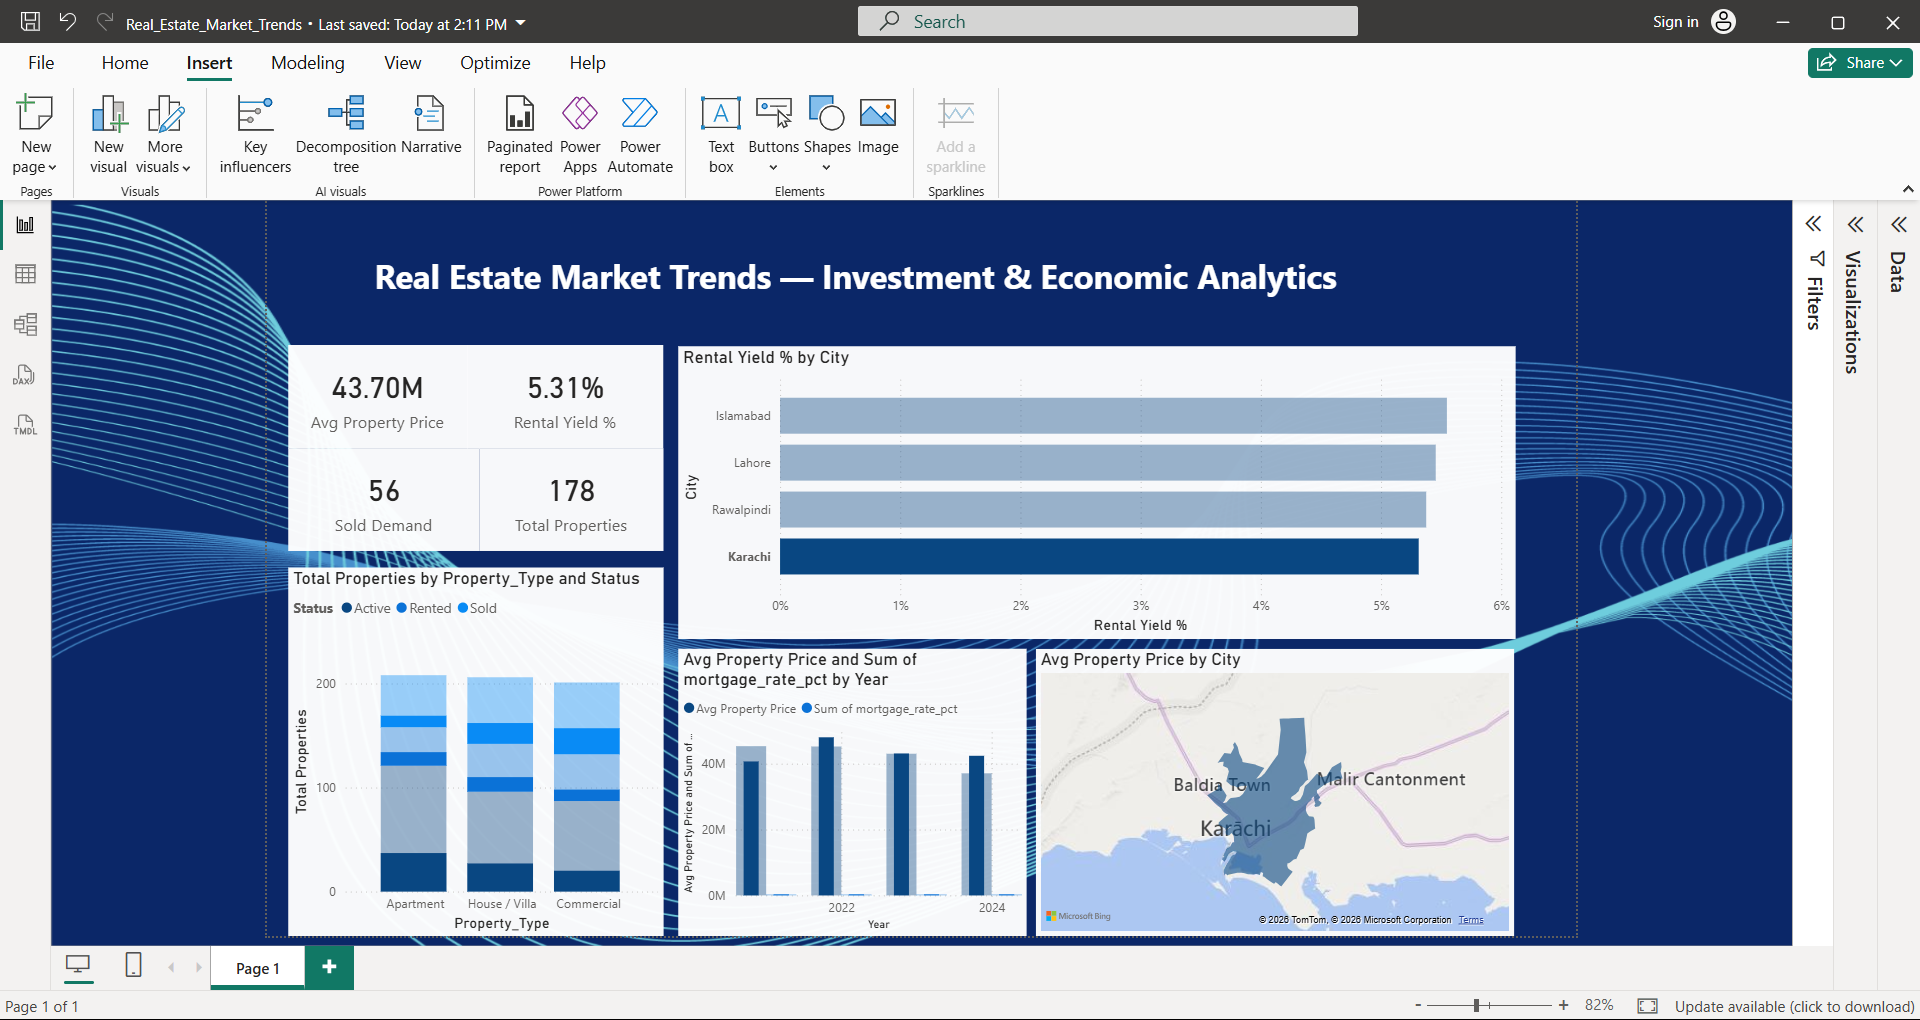

Layout of this report page (visuals, bound fields, positions):
{"tool":"powerbi","page":{"name":"Page 1","canvas":[1280,720],"ordinal":0},"visuals":[{"type":"card","fields":{"Values":["Measure.Sold Demand"]},"box":[20.8,243.3,187.1,100.3],"z":0},{"type":"card","fields":{"Values":["Measure.Avg Property Price"]},"box":[20.8,141.8,174.9,101.5],"z":1000},{"type":"card","fields":{"Values":["Measure.Rental Yield %"]},"box":[195.7,141.8,192,101.5],"z":2000},{"type":"card","fields":{"Values":["Measure.Total Properties"]},"box":[207.9,243.3,179.8,100.3],"z":3000},{"type":"clusteredBarChart","fields":{"Y":["Measure.Rental Yield %"],"Category":["fact_real_estate.City"]},"box":[402.3,143.1,819.3,286.1],"z":4000},{"type":"columnChart","fields":{"Category":["fact_real_estate.Property_Type"],"Y":["Measure.Total Properties"],"Series":["fact_real_estate.Status"]},"box":[20.8,359.5,366.8,360.7],"z":5000},{"type":"filledMap","fields":{"Category":["fact_real_estate.City"]},"box":[752,439,468.3,281.3],"z":6000},{"type":"lineClusteredColumnComboChart","fields":{"Category":["fact_real_estate.Date.Variation.Date Hierarchy.Year","fact_real_estate.Date.Variation.Date Hierarchy.Quarter","fact_real_estate.Date.Variation.Date Hierarchy.Month","fact_real_estate.Date.Variation.Date Hierarchy.Day"],"Y":["Measure.Avg Property Price","Sum(fact_economic.mortgage_rate_pct)"]},"box":[402.3,439,341.2,281.3],"z":6001},{"type":"textbox","box":[100.3,47.7,1035.7,74.6],"z":6002}]}

Visuals, with their boxes on the page's 1280x720 design canvas (x1, y1, x2, y2). These are canvas units, not pixel positions in the 1920x1020 screenshot, which may show the page scaled, cropped or inside an application window:
card - Measure.Sold Demand: 21:243:208:344
card - Measure.Avg Property Price: 21:142:196:243
card - Measure.Rental Yield %: 196:142:388:243
card - Measure.Total Properties: 208:243:388:344
clusteredBarChart - Measure.Rental Yield % x fact_real_estate.City: 402:143:1222:429
columnChart - fact_real_estate.Property_Type x Measure.Total Properties: 21:360:388:720
filledMap - fact_real_estate.City: 752:439:1220:720
lineClusteredColumnComboChart - fact_real_estate.Date.Variation.Date Hierarchy.Year x fact_real_estate.Date.Variation.Date Hierarchy.Quarter: 402:439:744:720
textbox: 100:48:1136:122
